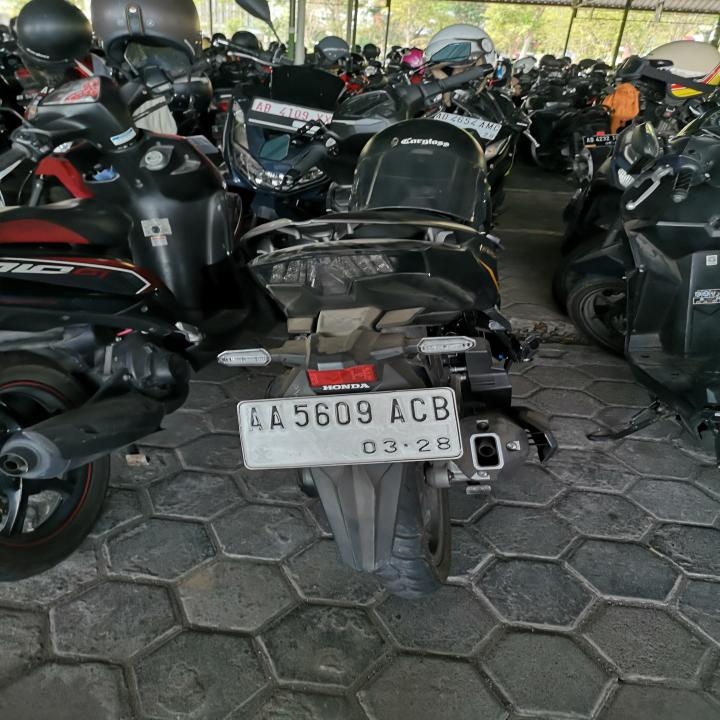plate: (232, 380, 469, 474), (243, 95, 334, 137), (434, 111, 502, 140)
